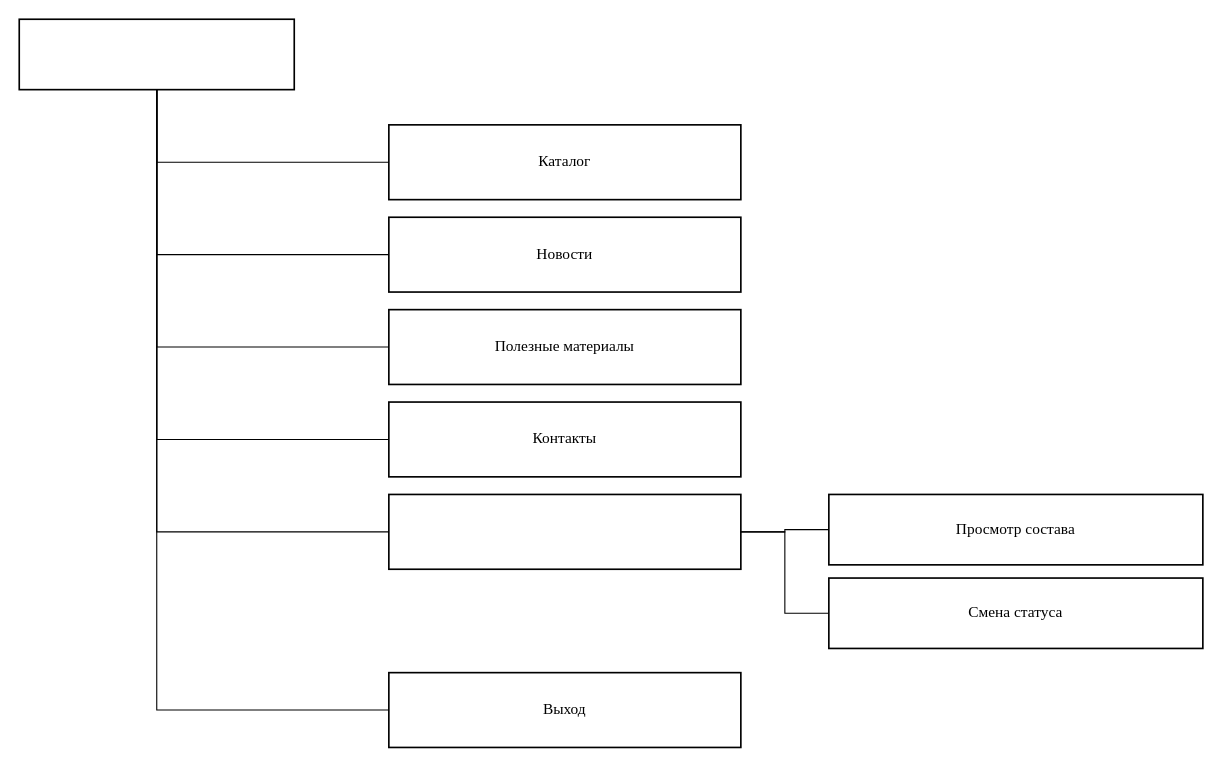
Some shapes in this 1223 by 768 pixel diagram are drawn without their labels. The box of each missing label's shape, as (x1, y1, x2, y2) in pixels:
Главная: (18, 18, 295, 90)
Заказы клиентов: (388, 493, 741, 570)
